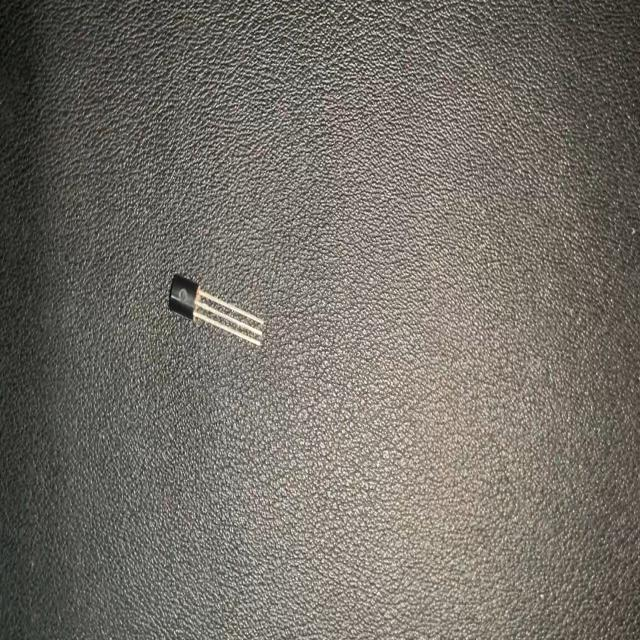BJT: (167, 268, 267, 356)
